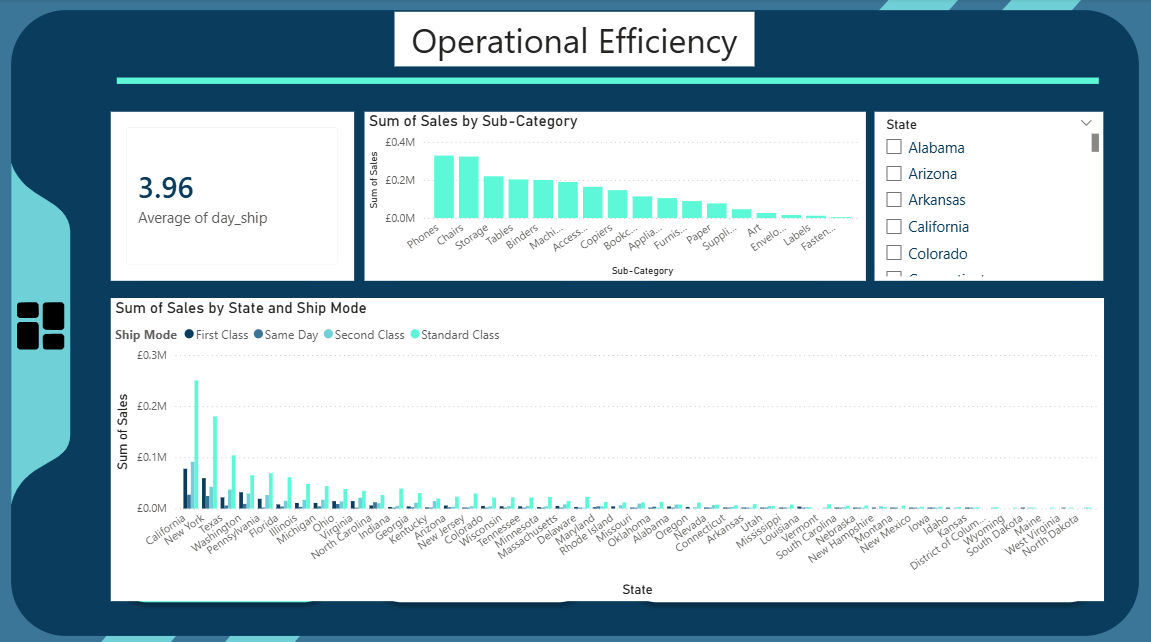

The page's visual inventory and layout, read from the dashboard file:
{"tool":"powerbi","page":{"name":"Operational Efficiency","canvas":[1280,720],"ordinal":2},"visuals":[{"type":"cardVisual","fields":{"Data":["Avg(fact.day_ship)"]},"box":[130,124.3,267.1,185.7],"z":0},{"type":"clusteredColumnChart","fields":{"Y":["Sum(fact.Sales)"],"Category":["Product.Sub-Category"]},"box":[408.6,124.3,550,185.7],"z":1000},{"type":"clusteredColumnChart","fields":{"Y":["Sum(fact.Sales)"],"Category":["fact.State"],"Series":["fact.Ship Mode"]},"box":[130,330,1090,332.9],"z":2000},{"type":"slicer","fields":{"Values":["place.State"]},"box":[968.6,124.3,251.4,185.7],"z":3000},{"type":"textbox","box":[441.9,15.1,395.2,60.4],"z":4000},{"type":"image","box":[27.4,315.6,52.1,89.2],"z":5000}]}

Visuals, with their boxes in screenshot pixels (x1, y1, x2, y2), scaled from the page's 1280x720 canvas onto the 1151x642 screenshot:
cardVisual - Avg(fact.day_ship): bbox(117, 111, 357, 276)
clusteredColumnChart - Sum(fact.Sales) x Product.Sub-Category: bbox(367, 111, 862, 276)
clusteredColumnChart - Sum(fact.Sales) x fact.State: bbox(117, 294, 1097, 591)
slicer - place.State: bbox(871, 111, 1097, 276)
textbox: bbox(397, 13, 753, 67)
image: bbox(25, 281, 71, 361)
